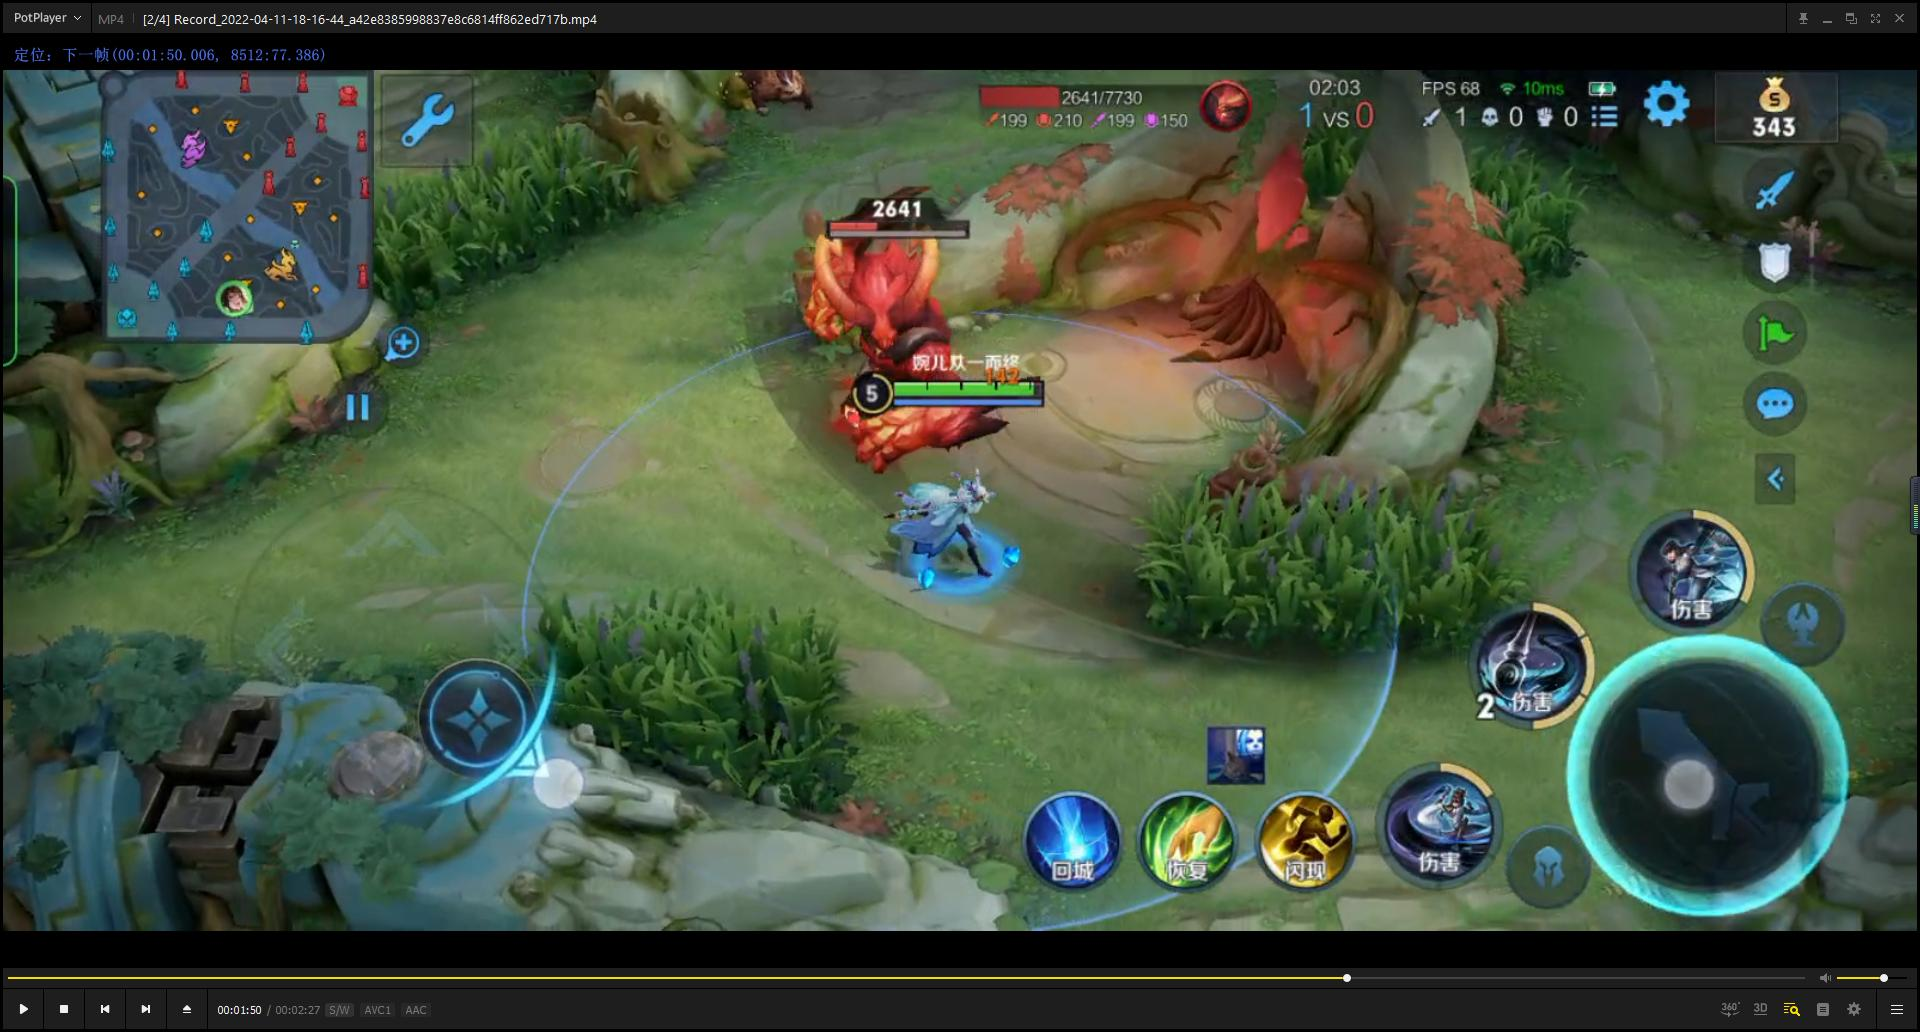Buff: (731, 172, 1053, 477)
Hero: (854, 450, 1041, 600)
